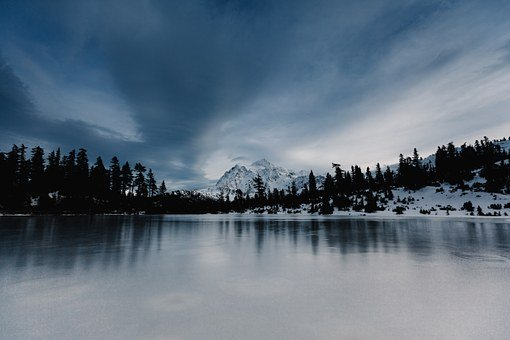lake: (5, 215, 500, 340)
mountain: (11, 148, 507, 216)
sky: (5, 1, 507, 145)
